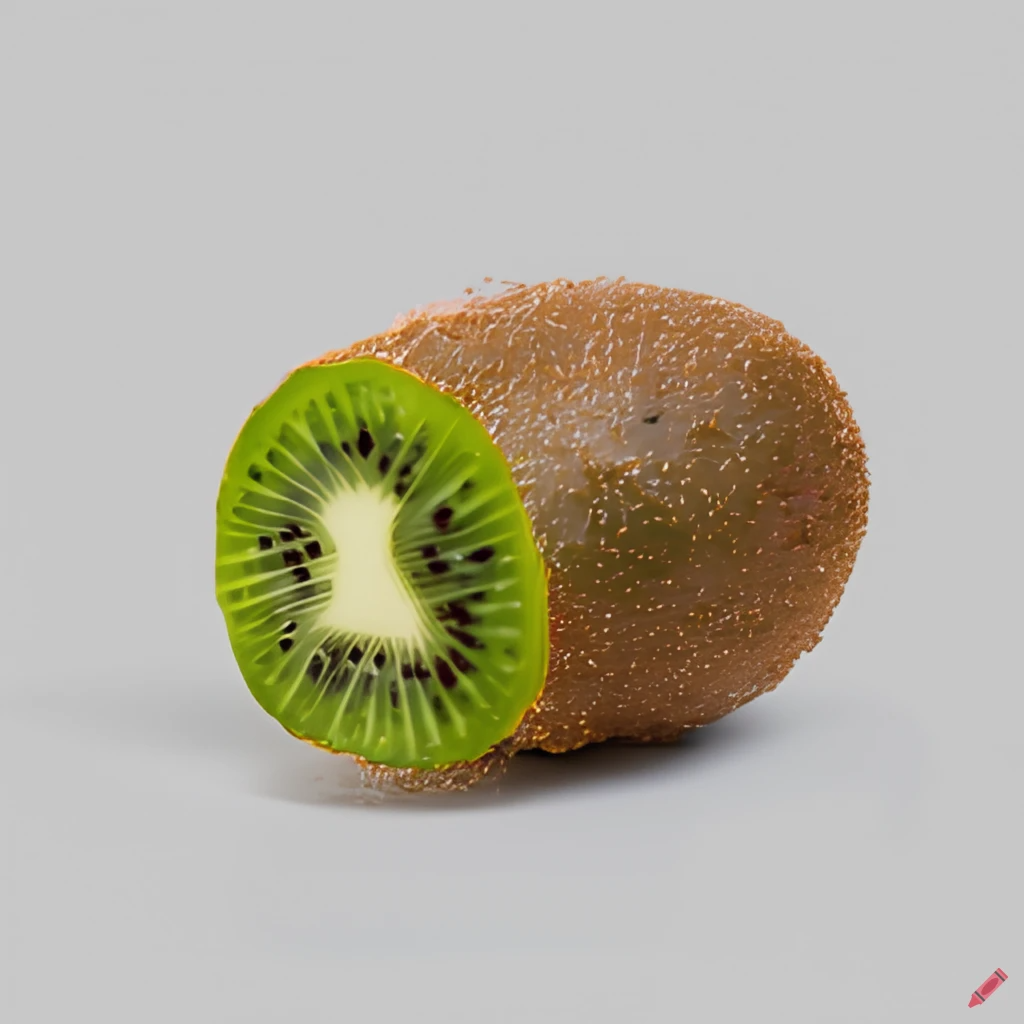Kiwi: (188, 234, 870, 796)
